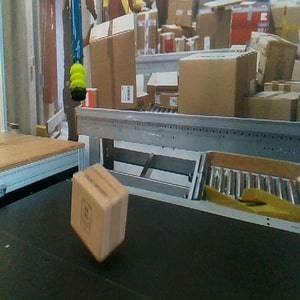box: (70, 162, 129, 263)
